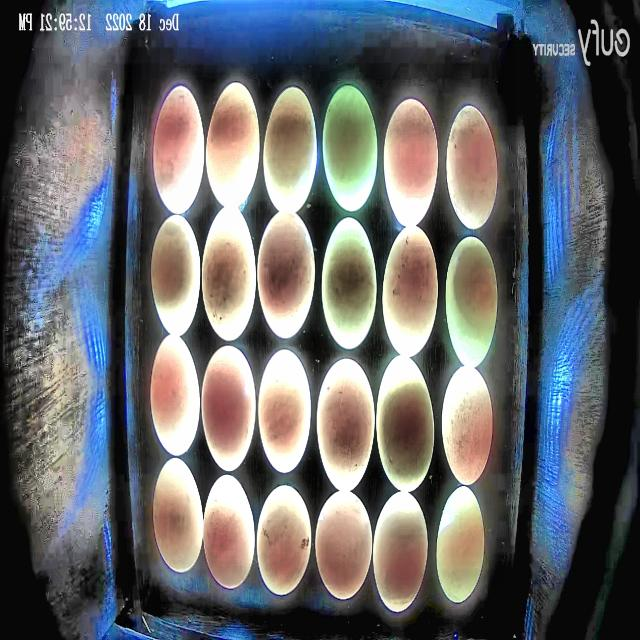UF: (374, 353, 436, 493), (315, 357, 376, 492), (257, 210, 316, 340), (321, 216, 378, 350), (444, 234, 499, 369), (201, 207, 256, 342), (382, 98, 439, 228), (262, 84, 318, 216), (322, 84, 379, 213), (382, 225, 438, 356), (204, 80, 261, 208), (200, 345, 256, 472), (372, 491, 429, 613), (152, 84, 205, 215), (258, 346, 312, 474), (445, 103, 499, 229), (314, 490, 374, 600), (255, 483, 312, 595), (441, 364, 493, 486), (150, 332, 200, 456), (202, 473, 255, 589), (151, 214, 200, 338), (435, 486, 486, 605), (152, 456, 203, 574)
